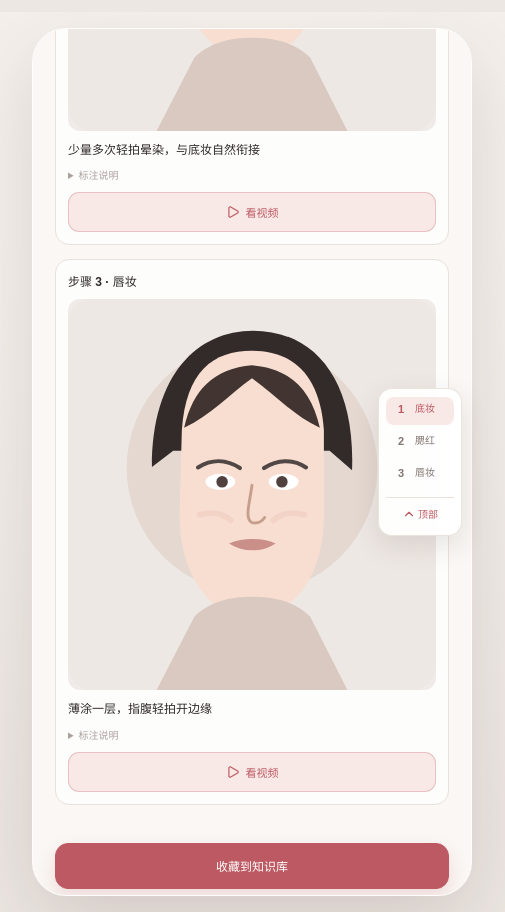
Test case: collect mode selects steps and navigates to success page
This screenshot has width=505, height=912.
(page scrolled)
What coordinates should you click on to do the following:
click the button "收藏到知识库"
I would click on:
 (252, 866)
Its box is x1=55 y1=843 x2=449 y2=889.
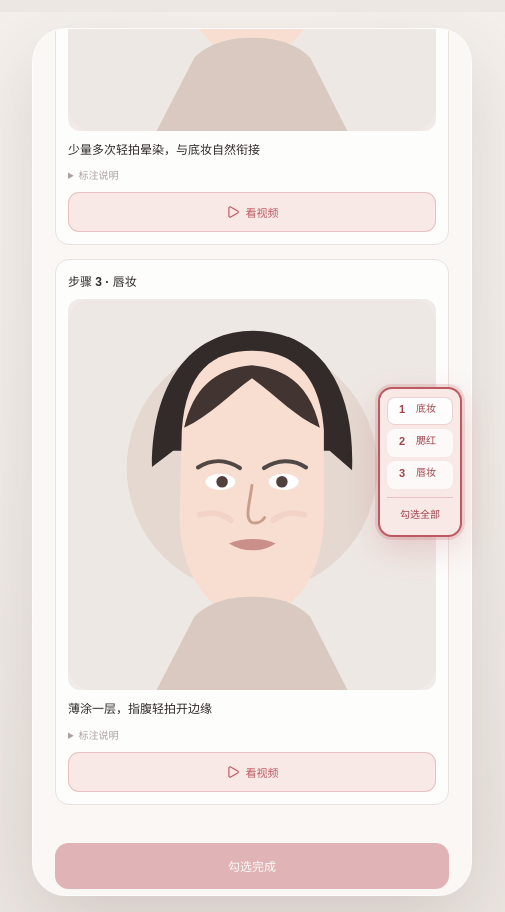
Expected: the button "勾选全部" is shown, x1=387 y1=497 x2=453 y2=527
Expected: the button "勾选完成" is disabled, x1=55 y1=843 x2=449 y2=889
What coordinates should you click on to do the following:
click the button with aria-label "勾选步骤 1"
I would click on:
 (420, 411)
Its box is x1=387 y1=397 x2=453 y2=425.
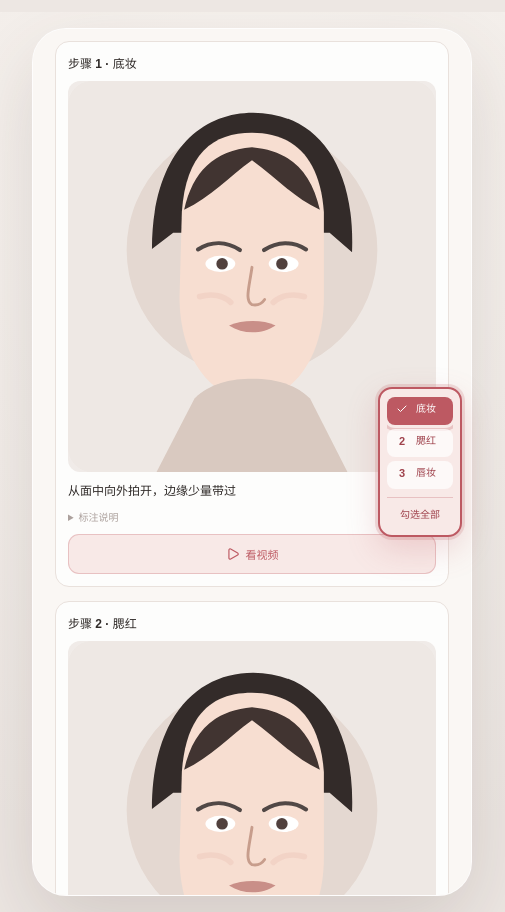
Expected: the button with aria-label "勾选步骤 1" is pressed, x1=387 y1=397 x2=453 y2=425
What coordinates should you click on to do the following:
click the button "勾选全部"
I would click on:
 (420, 512)
Its box is x1=387 y1=497 x2=453 y2=527.
(page scrolled)
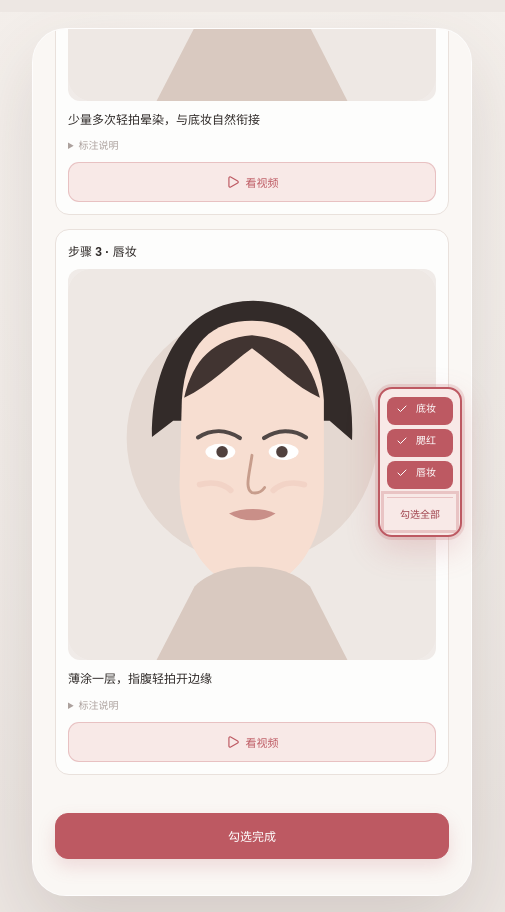
Expected: the button with aria-label "勾选步骤" is pressed, x1=387 y1=397 x2=453 y2=425
What coordinates should you click on to do the following:
click the button "勾选完成"
I would click on:
 (252, 836)
Its box is x1=55 y1=813 x2=449 y2=859.
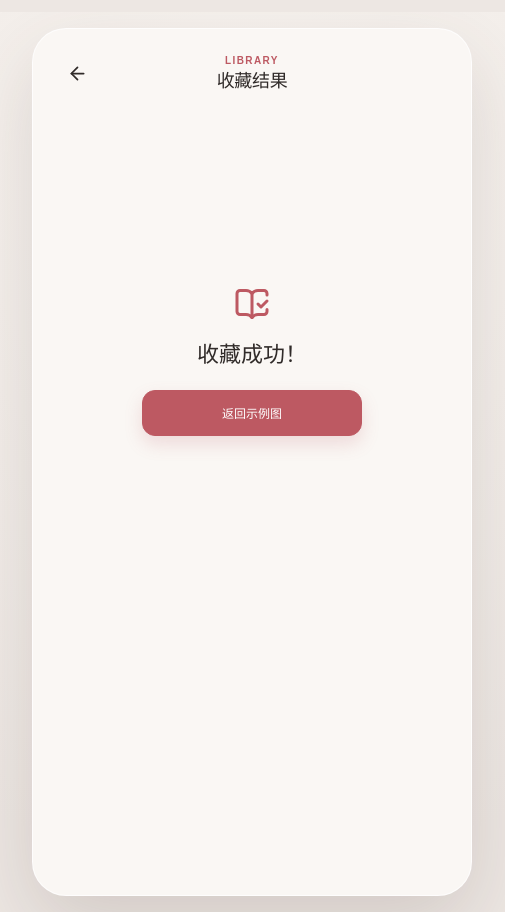
Expected: the heading "收藏成功！" is shown, x1=197 y1=336 x2=307 y2=368
